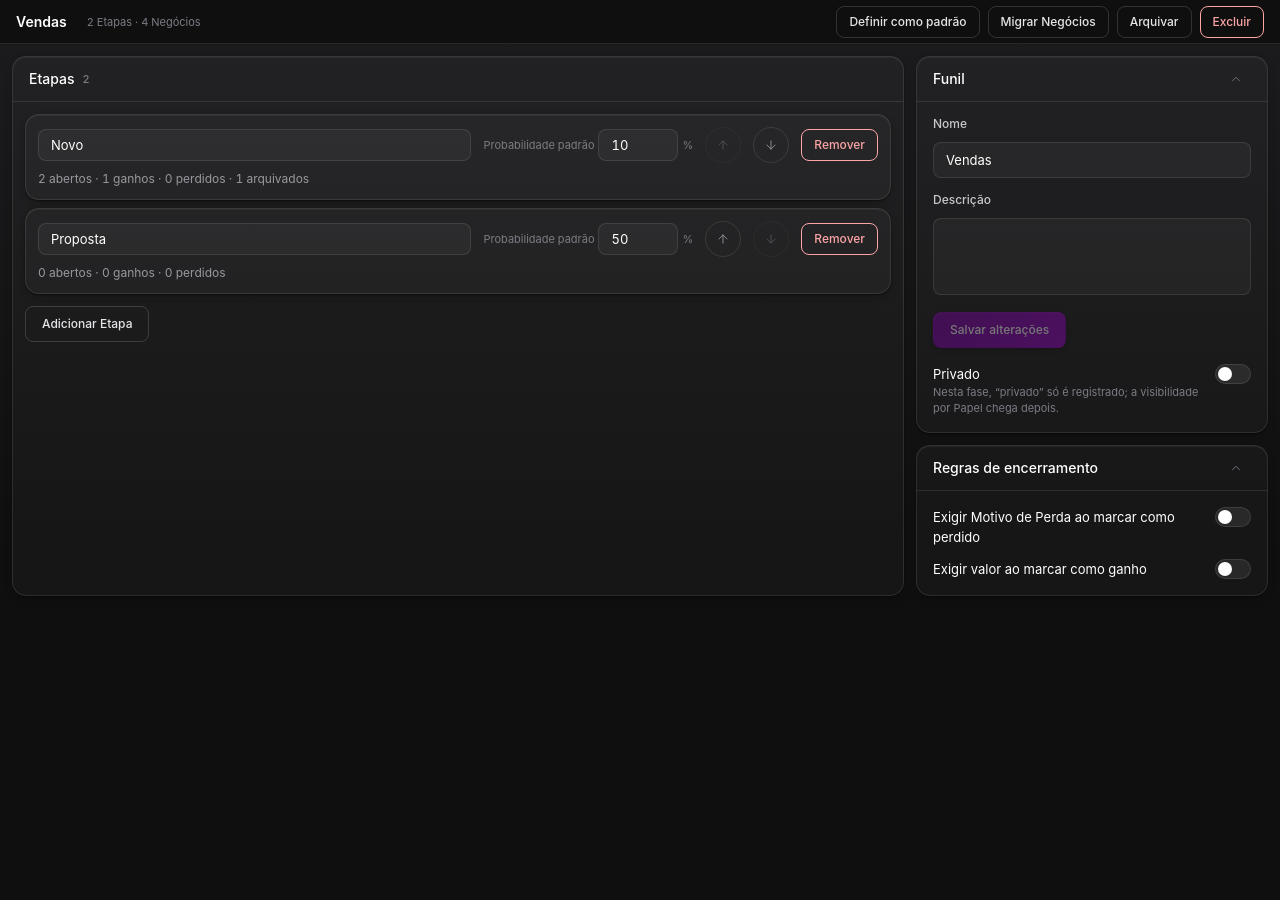
FichaDeFunil — Funil › (n) Salvar alterações manda só o que mudou; nome repetido cai no campo Nome
Replace the text in the field labelled "Nome" with "Pós-venda": (1092, 160) x1=933 y1=142 x2=1251 y2=178
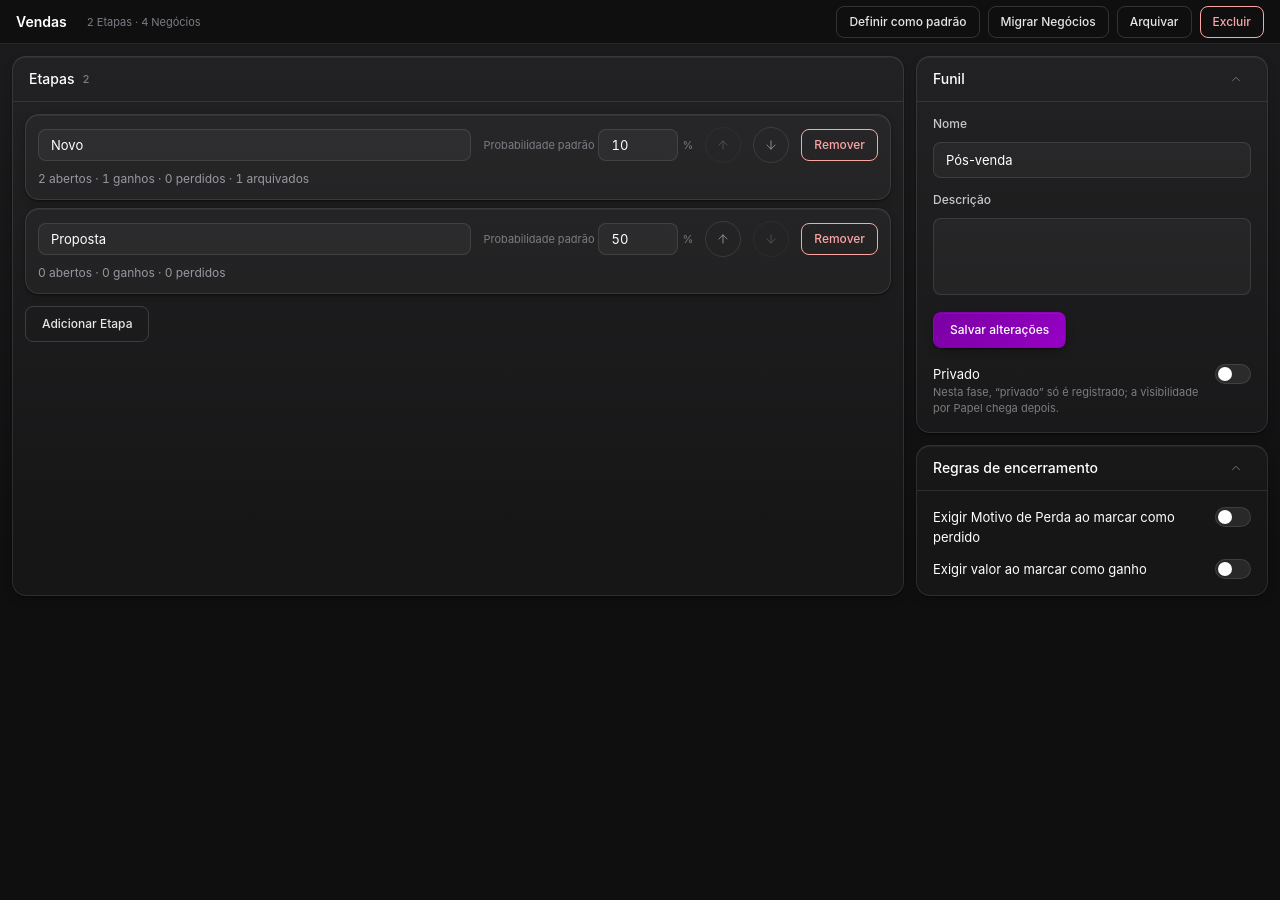
Click the button "Salvar alterações": click(1000, 330) x1=933 y1=312 x2=1066 y2=348
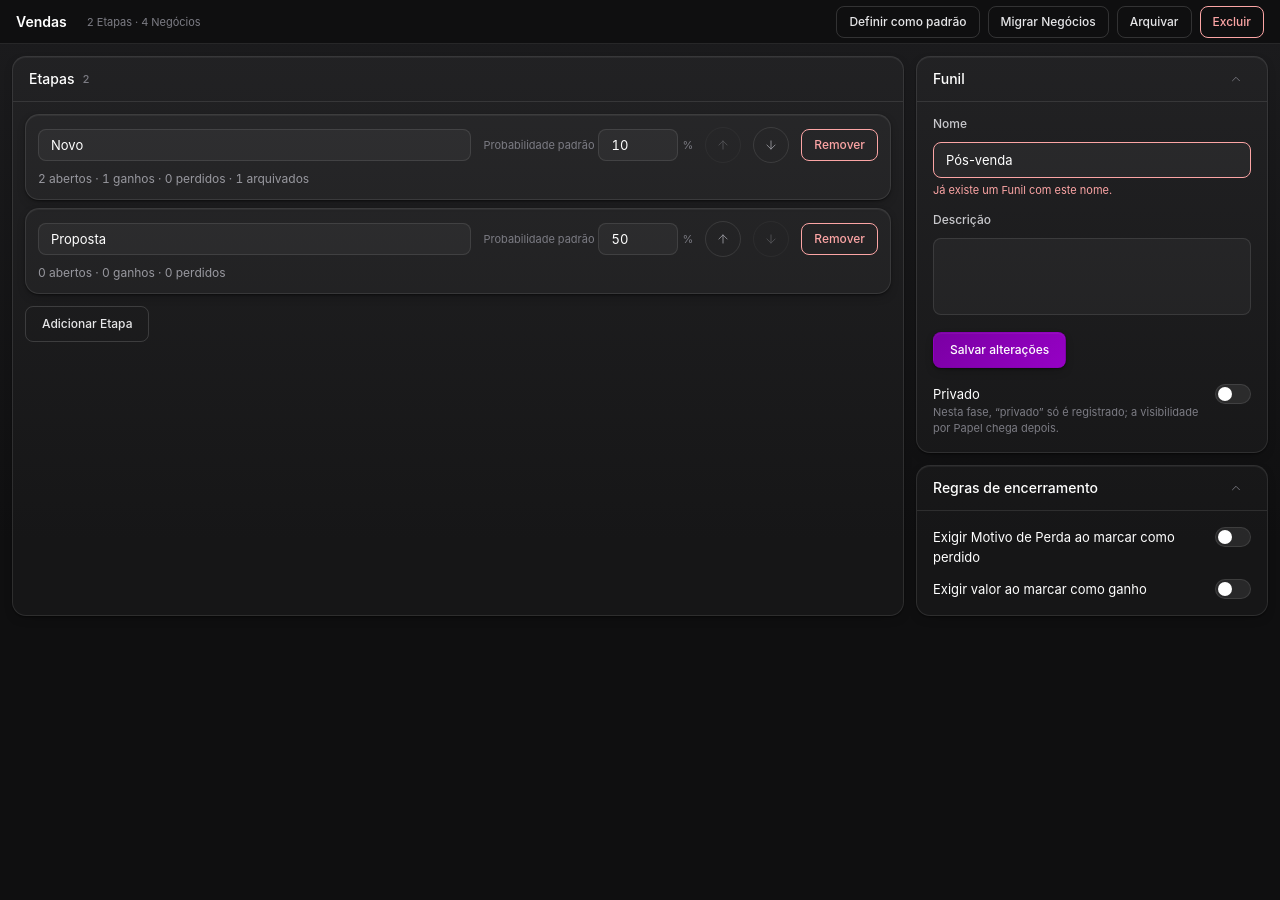
expect the text "Já existe um Funil com este nome." is shown: met, box x1=933 y1=183 x2=1112 y2=197
